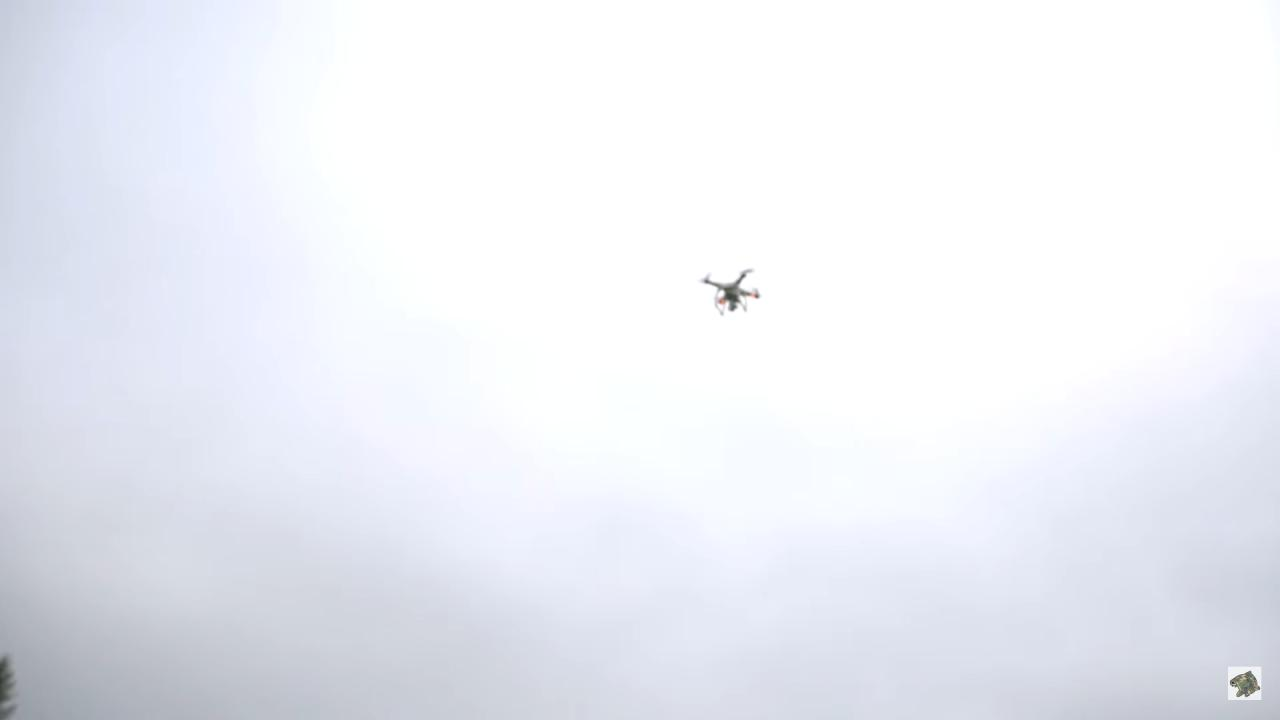Drone: (695, 258, 771, 329)
